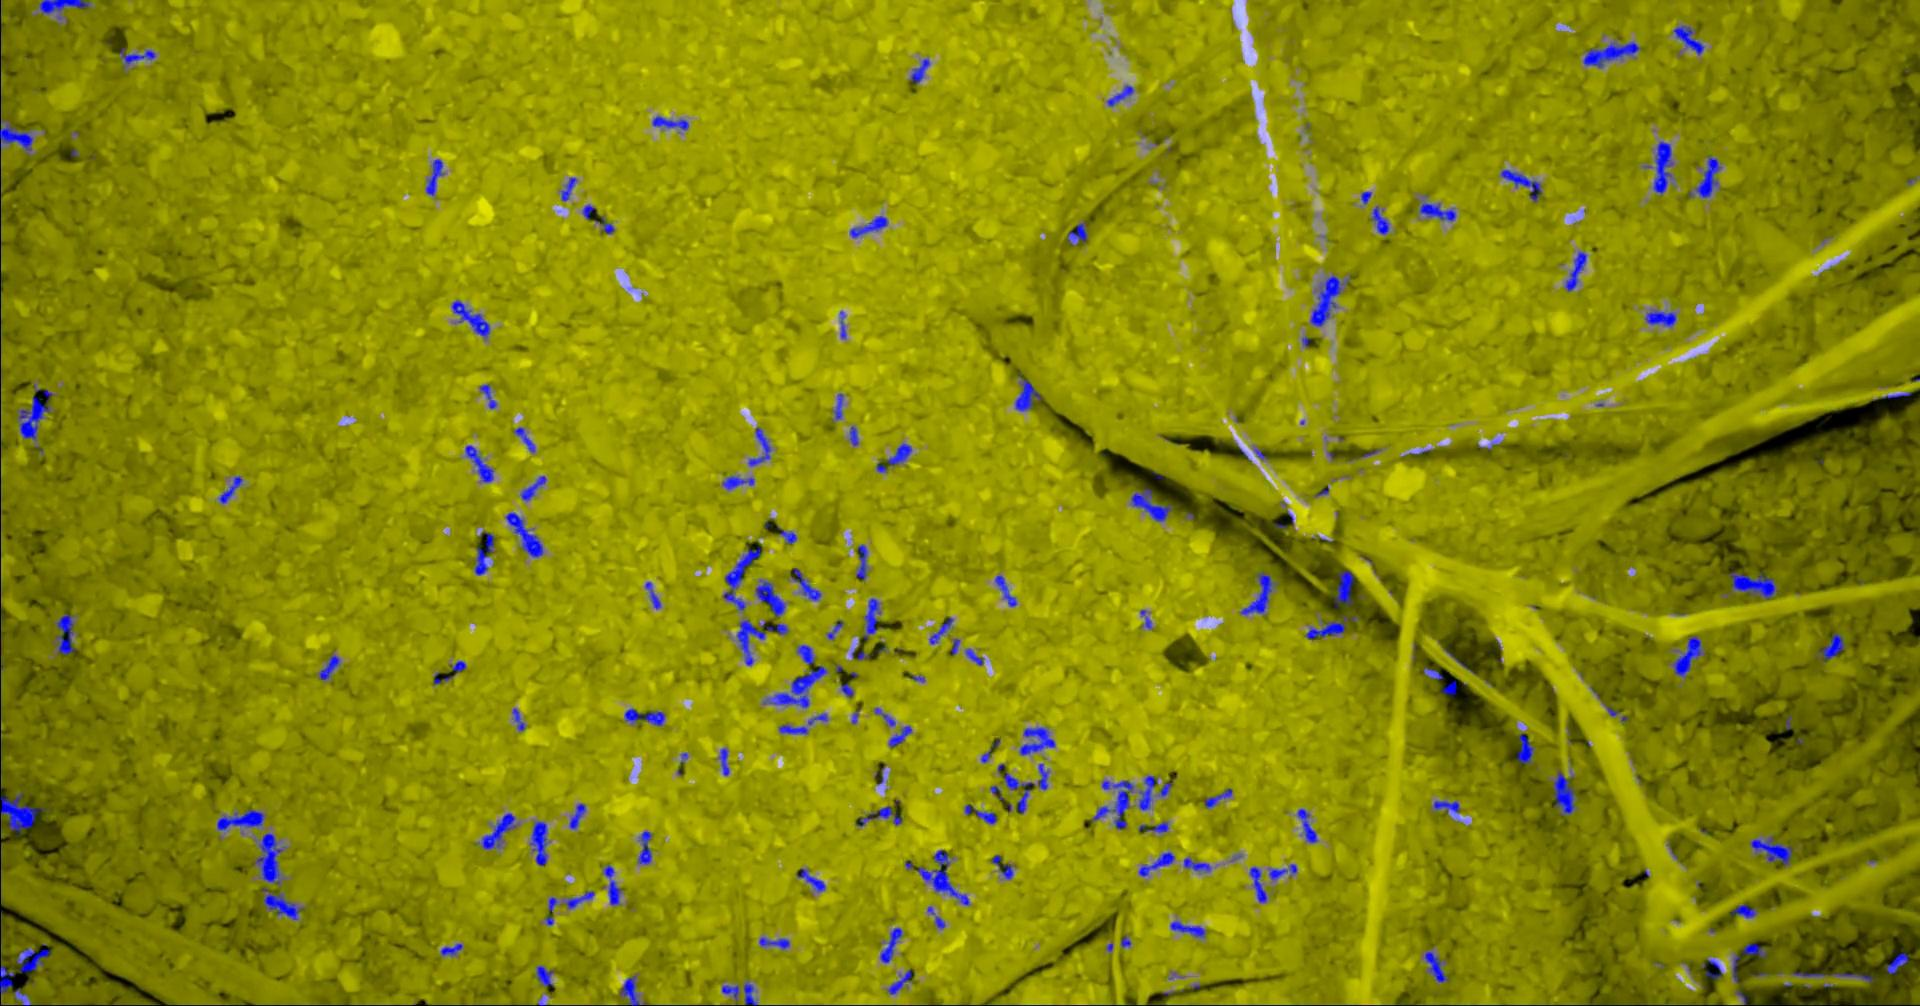ant: (917, 848, 969, 904), (763, 666, 825, 708), (723, 546, 761, 610), (737, 619, 787, 666), (1002, 763, 1048, 813), (0, 791, 50, 837), (17, 384, 53, 439), (1091, 780, 1133, 828), (1310, 274, 1349, 326), (504, 512, 543, 558), (1239, 570, 1277, 614), (253, 833, 284, 883), (1582, 41, 1641, 67), (451, 298, 489, 338), (1130, 486, 1172, 521), (1688, 155, 1721, 197), (262, 887, 302, 920), (1500, 169, 1542, 201), (0, 113, 32, 154), (1672, 635, 1704, 676), (1728, 572, 1777, 598), (1304, 615, 1357, 639), (1749, 836, 1792, 865), (481, 813, 516, 848), (0, 913, 14, 995), (858, 597, 883, 643), (1552, 770, 1576, 815), (463, 445, 493, 481), (756, 579, 785, 616), (1652, 141, 1672, 193), (875, 443, 910, 473), (1018, 727, 1055, 754), (216, 808, 263, 829), (790, 567, 820, 600), (15, 942, 50, 972), (1015, 373, 1041, 410), (855, 805, 902, 826), (39, 0, 89, 19), (1790, 970, 1873, 982), (1138, 851, 1175, 876), (474, 531, 494, 575), (1672, 25, 1703, 55), (850, 215, 888, 238), (1815, 633, 1844, 662), (55, 614, 75, 655), (1564, 251, 1586, 291), (748, 427, 770, 466), (618, 976, 646, 1005), (530, 821, 547, 865), (879, 927, 902, 962), (623, 708, 664, 727), (603, 864, 622, 904), (1423, 951, 1449, 982), (432, 661, 465, 683), (119, 47, 155, 67), (1418, 202, 1455, 221), (1333, 570, 1352, 607), (1297, 808, 1317, 842), (1138, 775, 1157, 810), (218, 475, 243, 503), (928, 616, 952, 644), (796, 868, 825, 890), (994, 575, 1016, 606), (425, 159, 443, 196), (1170, 920, 1205, 937), (521, 475, 545, 500), (990, 854, 1015, 879), (888, 969, 912, 995), (964, 804, 996, 823), (1250, 866, 1266, 902), (1515, 733, 1534, 763), (1106, 84, 1133, 105), (513, 426, 535, 452), (1204, 788, 1232, 808), (1644, 310, 1676, 326), (1884, 951, 1909, 973), (1370, 205, 1388, 234), (565, 890, 594, 908), (319, 654, 339, 680), (651, 116, 688, 130), (909, 58, 930, 83), (568, 803, 585, 829), (1065, 222, 1087, 244), (888, 725, 910, 746), (721, 475, 754, 489), (637, 831, 651, 864), (1269, 862, 1297, 879), (855, 544, 867, 579), (872, 708, 895, 727), (479, 384, 497, 408), (645, 580, 660, 608), (1183, 857, 1211, 871), (1138, 821, 1168, 833), (758, 936, 789, 949), (1741, 942, 1766, 958), (1702, 959, 1722, 978), (560, 177, 577, 199), (825, 619, 843, 639), (796, 644, 814, 664), (535, 965, 552, 986), (593, 216, 615, 232), (1731, 903, 1756, 917), (777, 526, 796, 544), (964, 648, 983, 666), (1432, 800, 1459, 813), (510, 708, 524, 730), (439, 942, 462, 956), (743, 982, 757, 1005), (13, 987, 30, 1005), (719, 747, 729, 775), (721, 984, 738, 1001), (833, 392, 843, 419), (1423, 666, 1443, 680), (778, 724, 808, 733), (1158, 779, 1172, 796), (808, 713, 827, 725), (1441, 680, 1457, 695), (1139, 608, 1150, 627), (582, 205, 597, 218), (1732, 953, 1738, 983), (851, 649, 869, 659), (841, 683, 853, 697), (839, 311, 846, 338), (850, 426, 858, 445)
